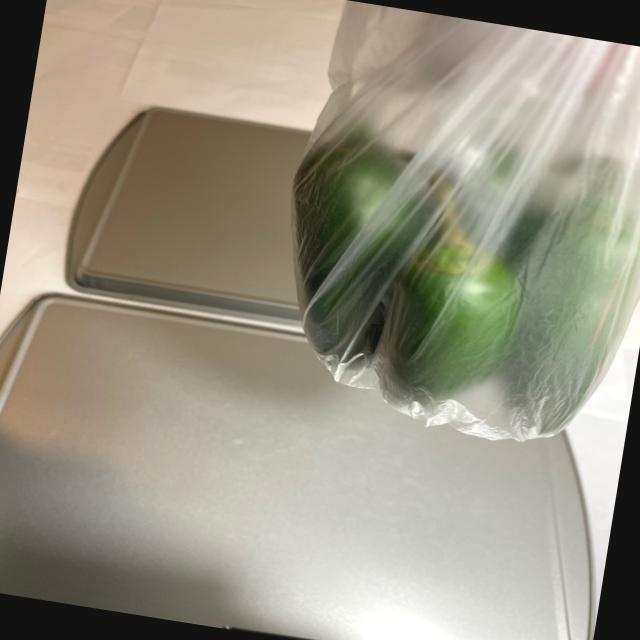chilli: (248, 71, 640, 454)
